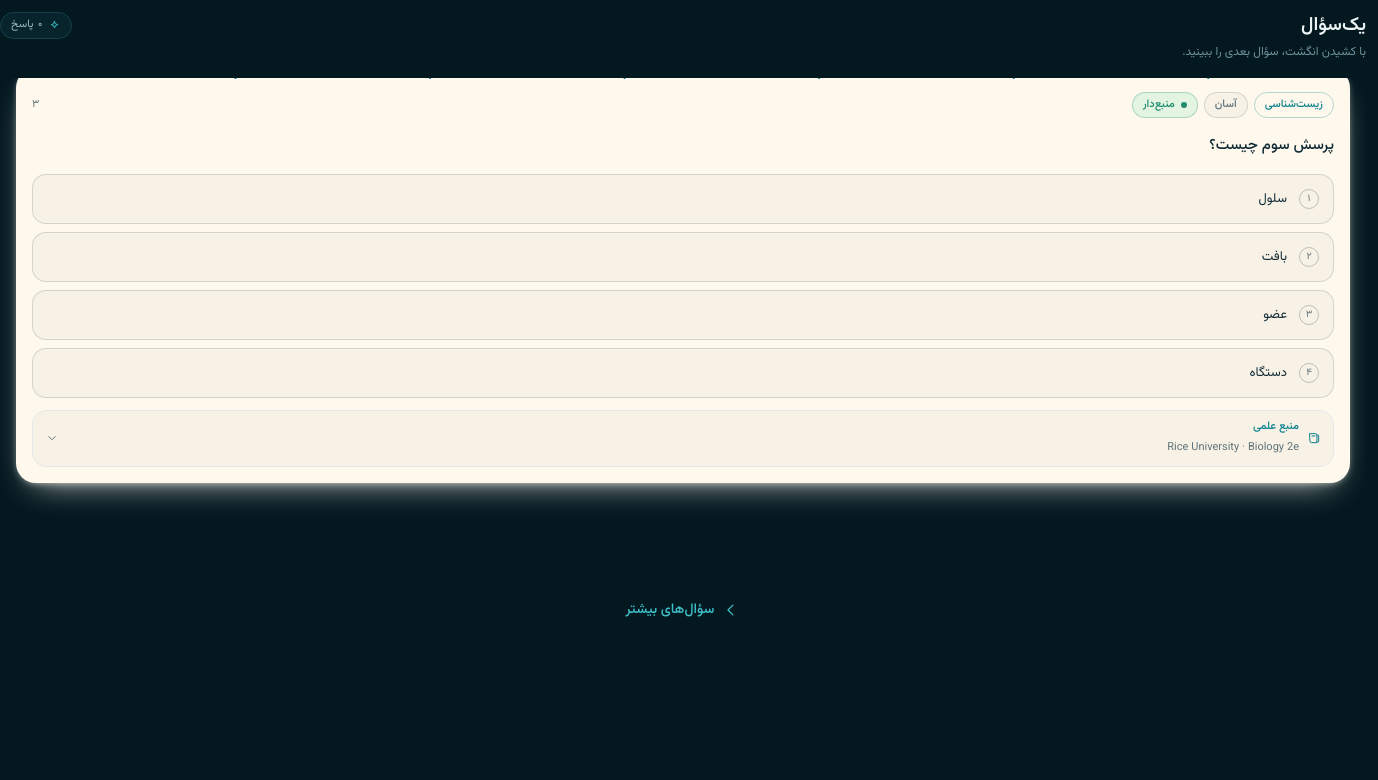
Test: Explore continuous feed › keeps loaded cards and offers a retry when the next page fails
(page scrolled)
Click the button "سؤال‌های بیشتر": (683, 610) [610,588,756,632]
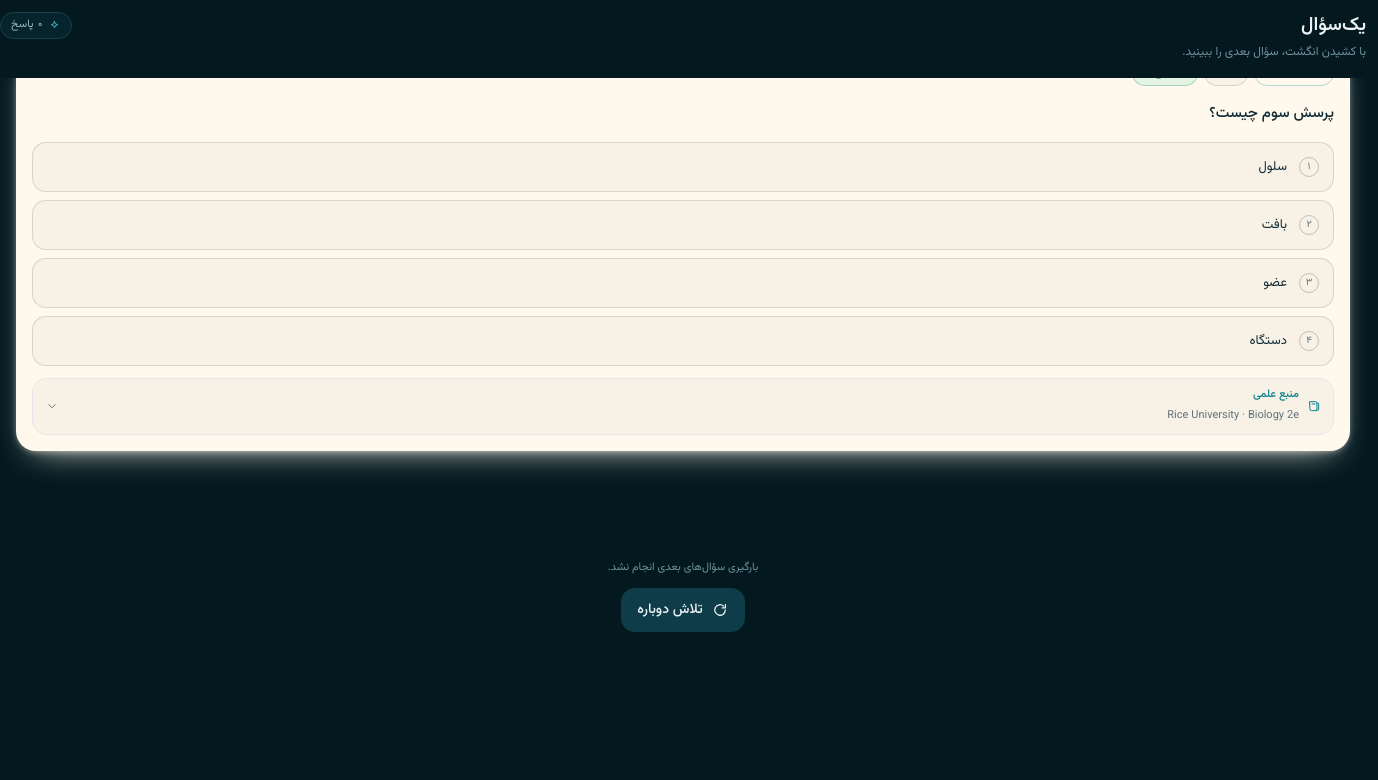
Now the text "بارگیری سؤال‌های بعدی انجام نشد." is shown, box [608,556,758,580]
Now the button "تلاش دوباره" is shown, box [621,588,745,632]
